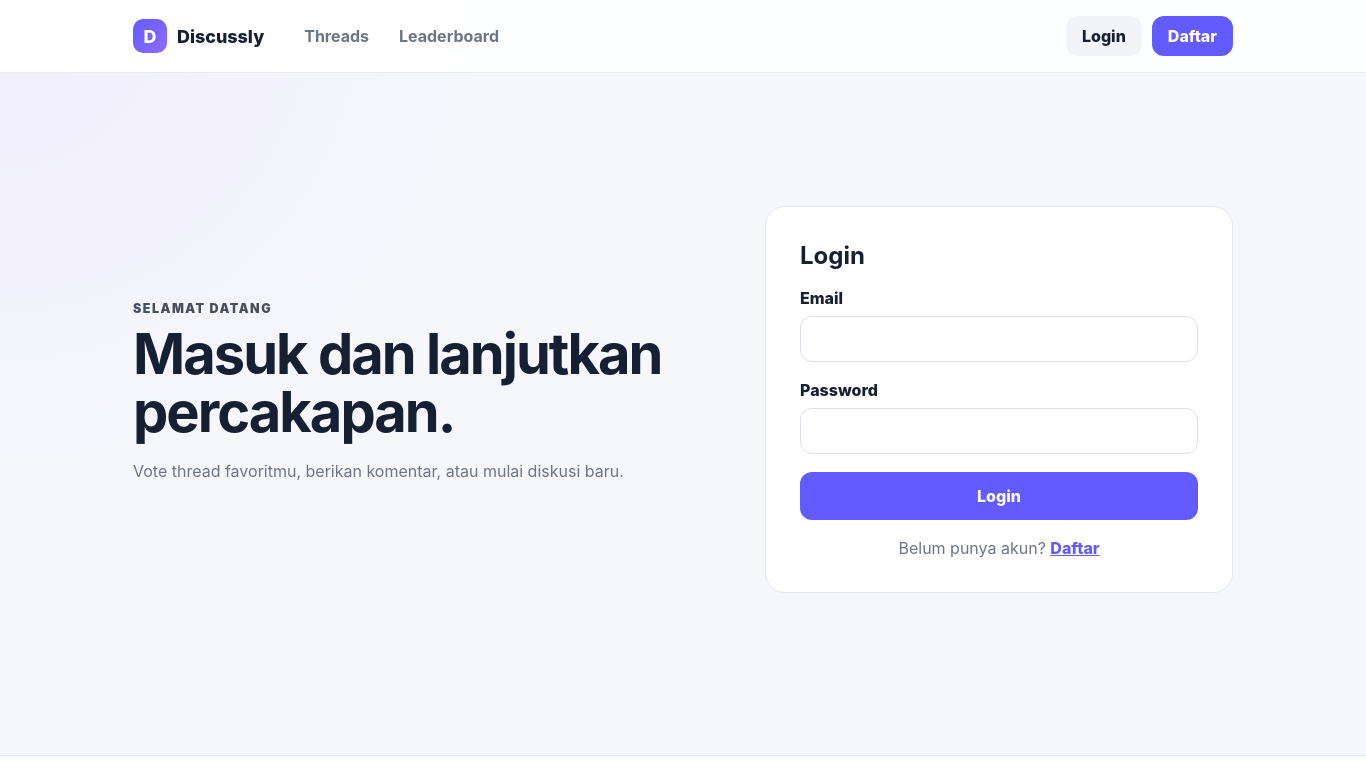
Test case: Login flow › should show an error when credentials are invalid
In the field with id "login-email": (999, 339) [800, 316, 1198, 362], type "wrong@example.com"
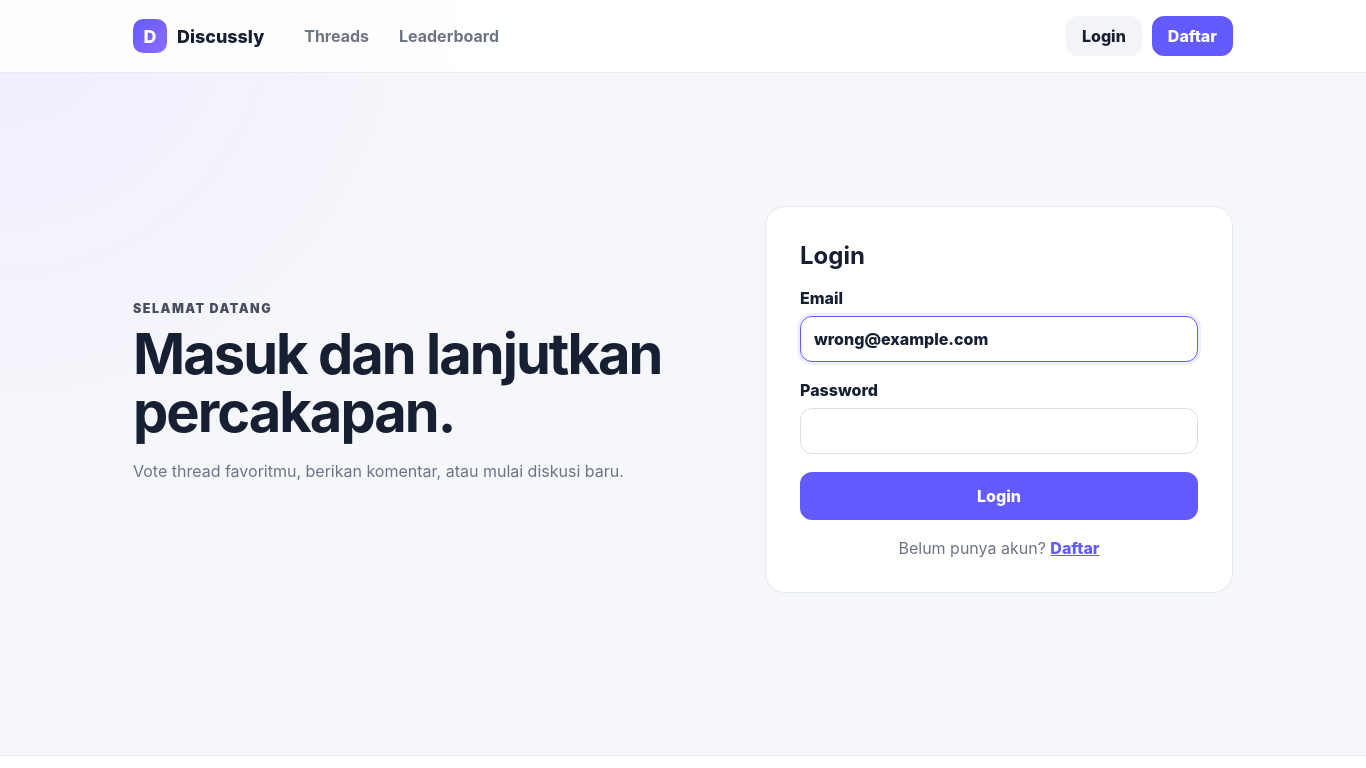
In the password field with id "login-password": (999, 431) [800, 408, 1198, 454], type "wrong-password"
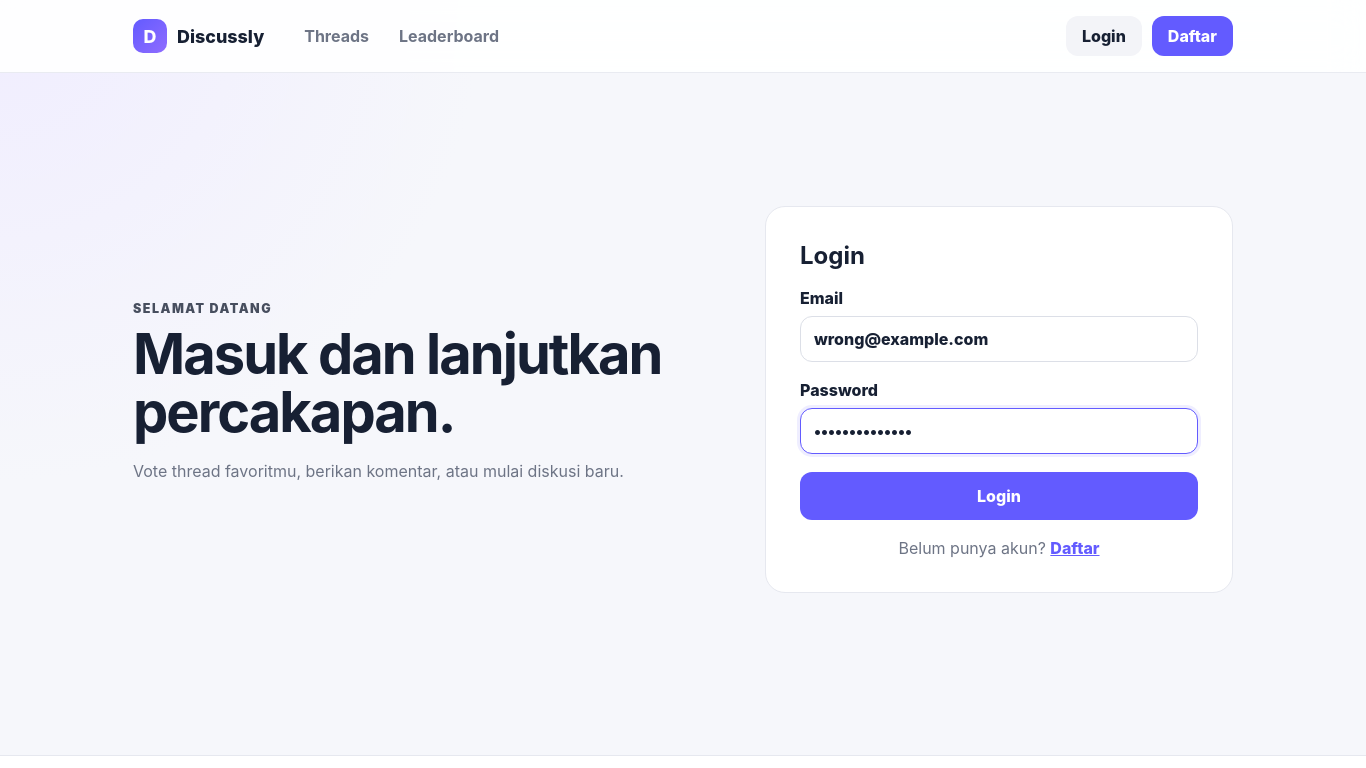
Click the button "Login": click(999, 496) [800, 472, 1198, 520]
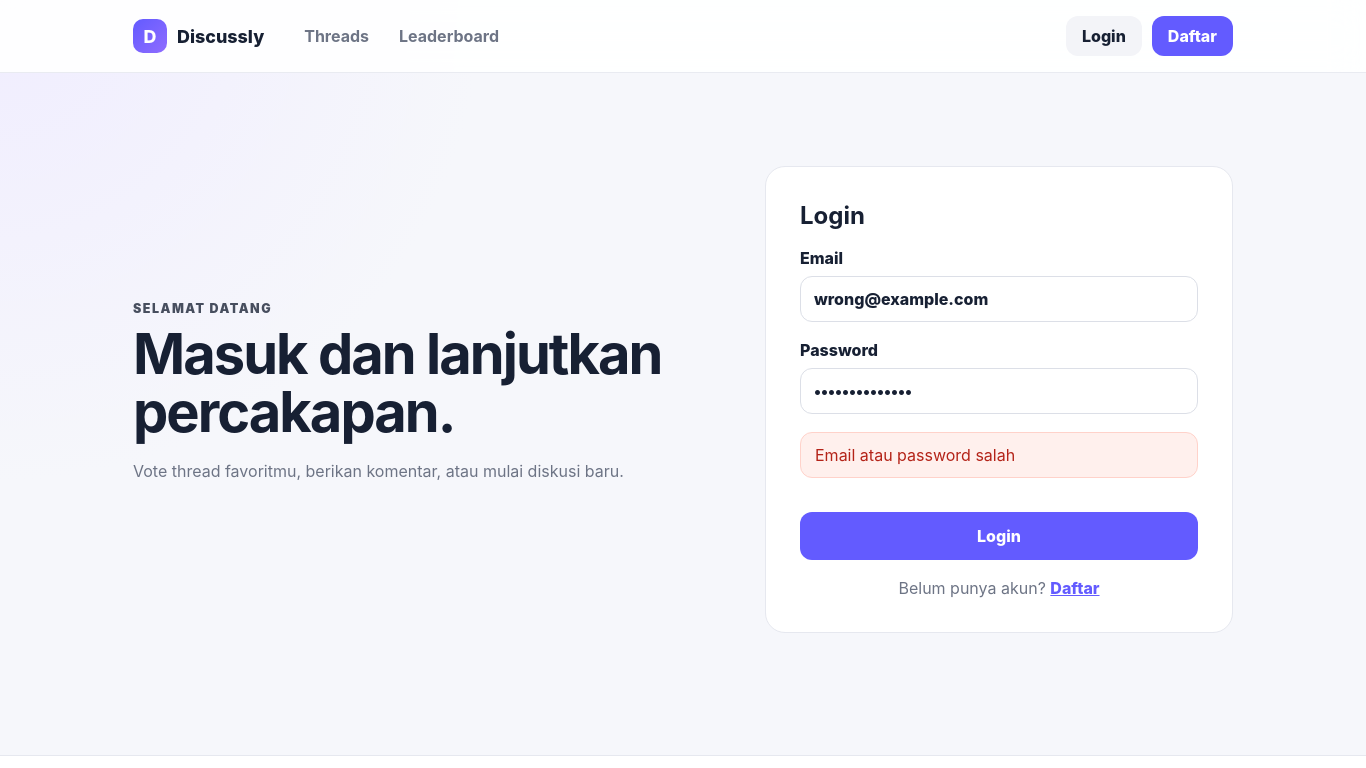
Expected: the text "Email atau password salah" is shown, [800, 432, 1198, 478]
